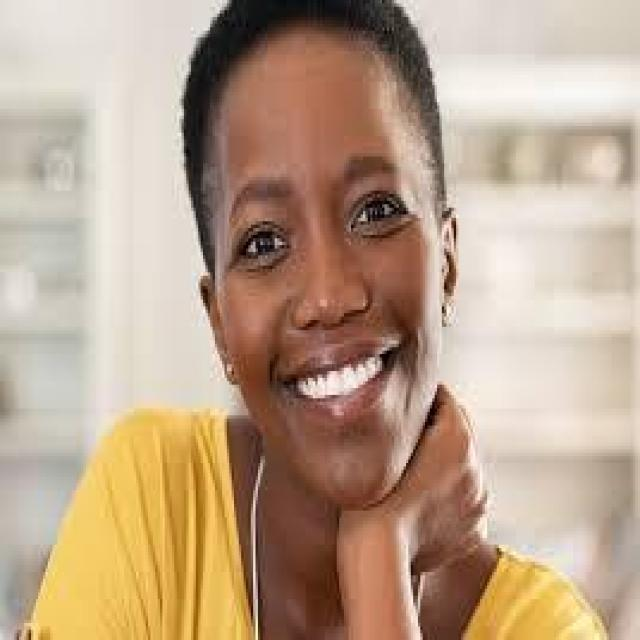person: (19, 0, 611, 637)
